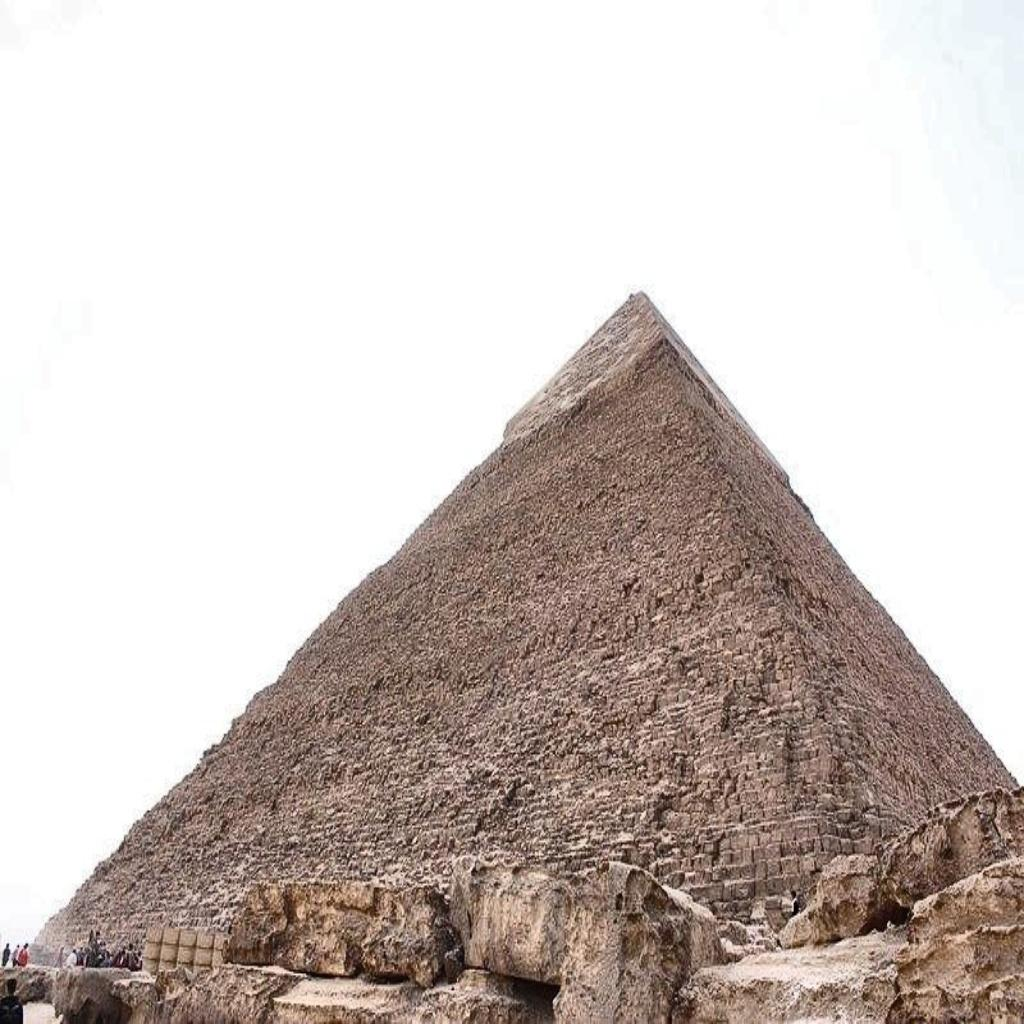Great Pyramids of Giza: (23, 282, 1019, 1004)
